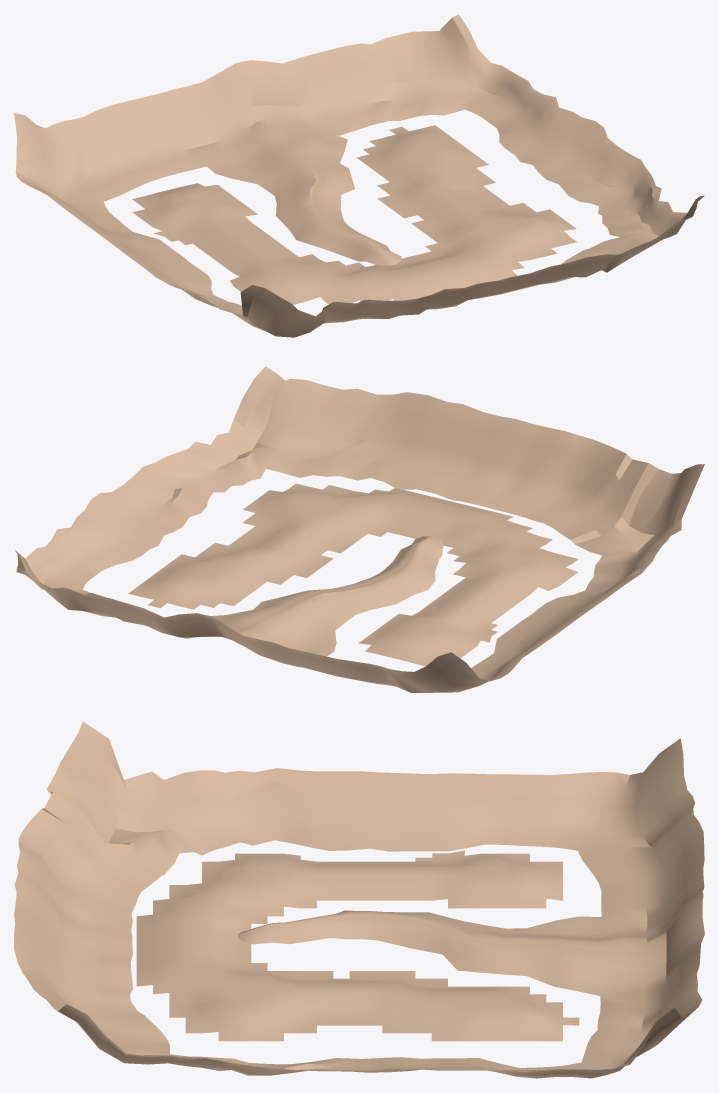
Rendered from deset_map_model.glb.
3 views of the same model, one above another, from view 1: azimuth 30°, elevation 25°; view 2: azimuth 150°, elevation 25°; view 3: azimuth 270°, elevation 25° (orthographic). The views are drawn at different scales.
Visible parts, largest first — view 1: desert_outer, deset_inner.001; view 2: desert_outer, deset_inner.001; view 3: desert_outer, deset_inner.001.
Part boxes in pixels (x1,y1,x2,y2): desert_outer: (14, 14, 704, 337); deset_inner.001: (132, 125, 576, 304); desert_outer: (15, 366, 704, 692); deset_inner.001: (128, 483, 578, 666); desert_outer: (14, 721, 704, 1078); deset_inner.001: (136, 850, 579, 1041).
Bounding box in the file's own units: 504 × 78.35 × 501.
1 material, 1 textured.
